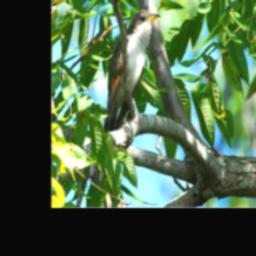Cuckoo: (103, 8, 160, 130)
